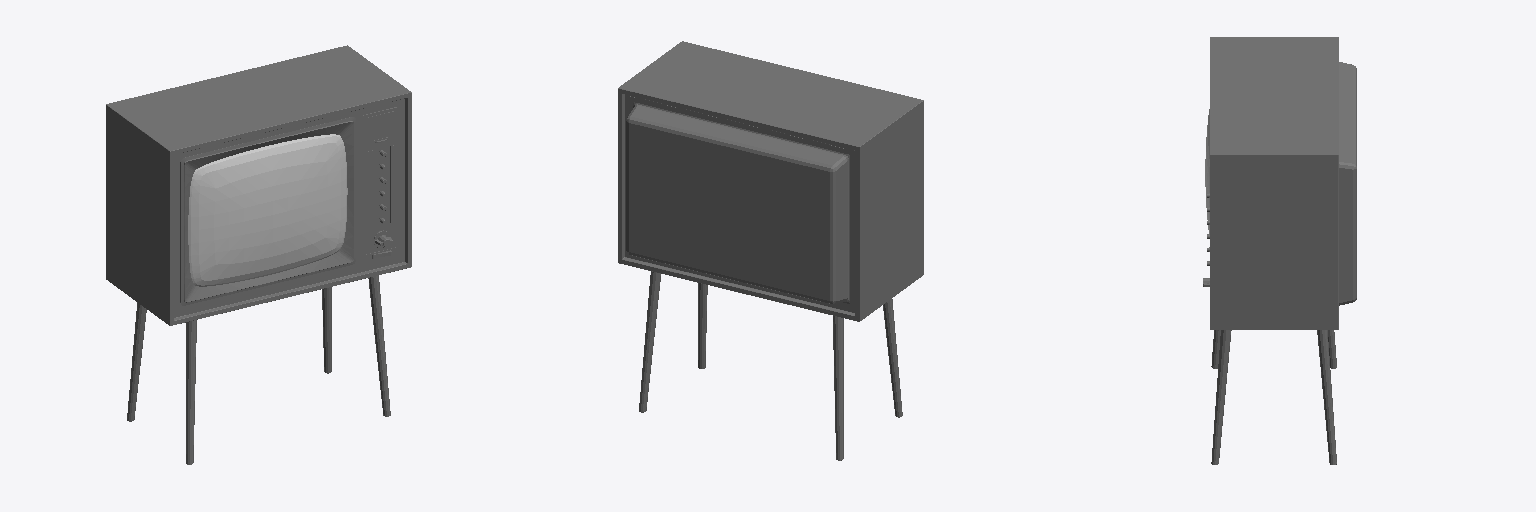
The picture shows the model from 3 angles: view 1: azimuth 30°, elevation 25°; view 2: azimuth 150°, elevation 25°; view 3: azimuth 270°, elevation 25°; orthographic projection.
Parts seen in each view (by area): view 1: TV_Cube; view 2: TV_Cube; view 3: TV_Cube.
Part boxes in pixels (left/top/right/bottom): TV_Cube: left=106, top=45, right=411, bottom=464; TV_Cube: left=618, top=41, right=923, bottom=460; TV_Cube: left=1205, top=37, right=1356, bottom=464.
Bounding box in the file's own units: 1.01 × 1.28 × 0.5596.